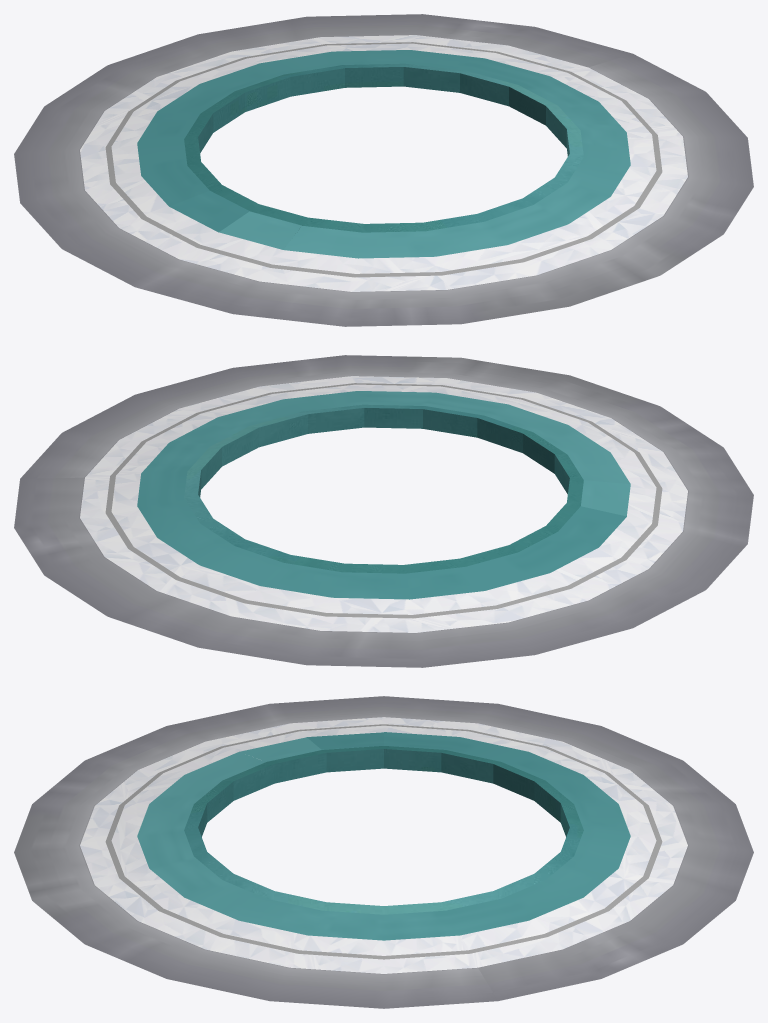
Rendered from ChakramCombined.fbx.
3 views of the same model, one above another, from view 1: azimuth 30°, elevation 25°; view 2: azimuth 150°, elevation 25°; view 3: azimuth 270°, elevation 25° (orthographic).
Parts seen in each view (by area): view 1: ChakramGrouped; view 2: ChakramGrouped; view 3: ChakramGrouped.
Boxes of the visible parts, x1,y1,x2,y2 form: ChakramGrouped: (14,14,753,326); ChakramGrouped: (14,355,753,667); ChakramGrouped: (14,696,753,1008).
Bounding box in the file's own units: 0.0235 × 0.000921 × 0.0235.
5 materials, 4 textured.
